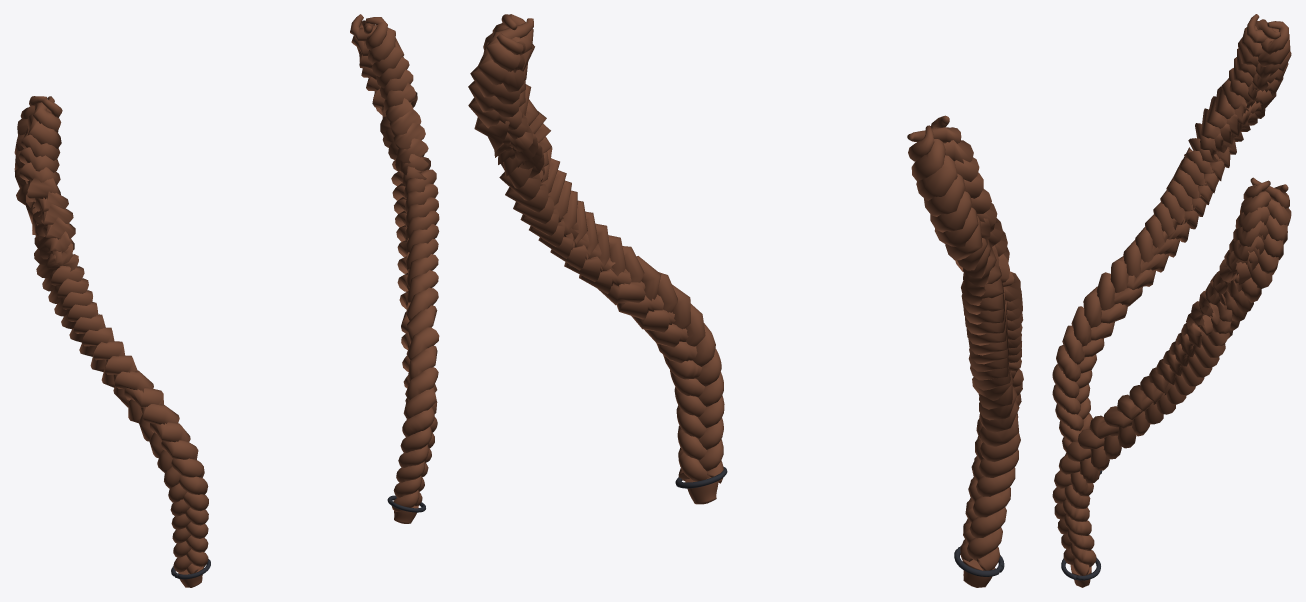
Rendered from twins-none-jersey-default.glb.
3 renders of one model, left to right at view 1: azimuth 30°, elevation 25°; view 2: azimuth 150°, elevation 25°; view 3: azimuth 270°, elevation 25°, orthographic. The views are drawn at different scales.
Parts seen in each view (by area): view 1: 226 hairLengths / Hair / chestnut226; view 2: 226 hairLengths / Hair / chestnut226, 226 hairLengths / Hair / ties226; view 3: 226 hairLengths / Hair / chestnut226, 226 hairLengths / Hair / ties226.
Part boxes in pixels (left/top/right/bottom): 226 hairLengths / Hair / chestnut226: left=14, top=14, right=439, bottom=587; 226 hairLengths / Hair / chestnut226: left=468, top=14, right=1023, bottom=587; 226 hairLengths / Hair / ties226: left=675, top=466, right=1004, bottom=576; 226 hairLengths / Hair / chestnut226: left=1052, top=14, right=1291, bottom=587; 226 hairLengths / Hair / ties226: left=1061, top=470, right=1102, bottom=580.
Bounding box in the file's own units: 0.8712 × 0.9287 × 0.4503.
